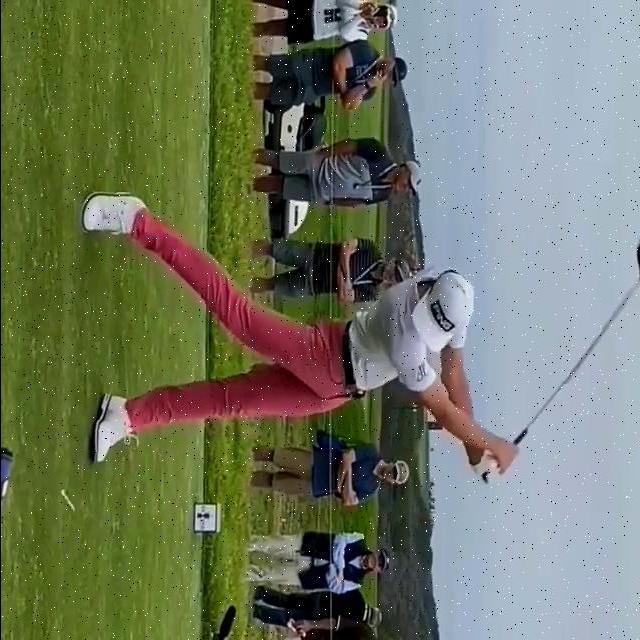ClubHandle: (481, 242, 640, 482)
